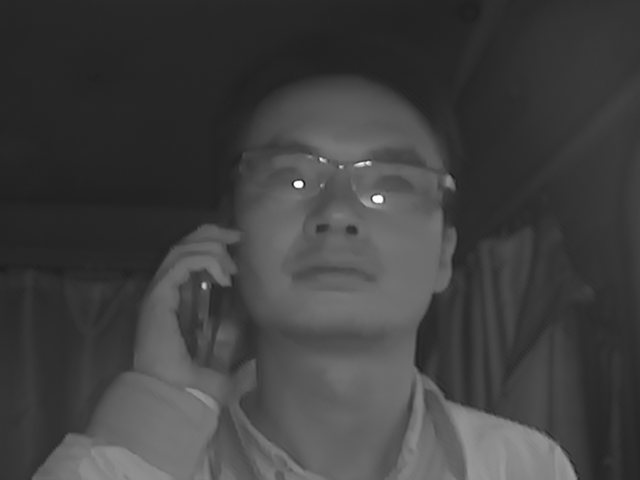hand: (130, 223, 244, 400)
